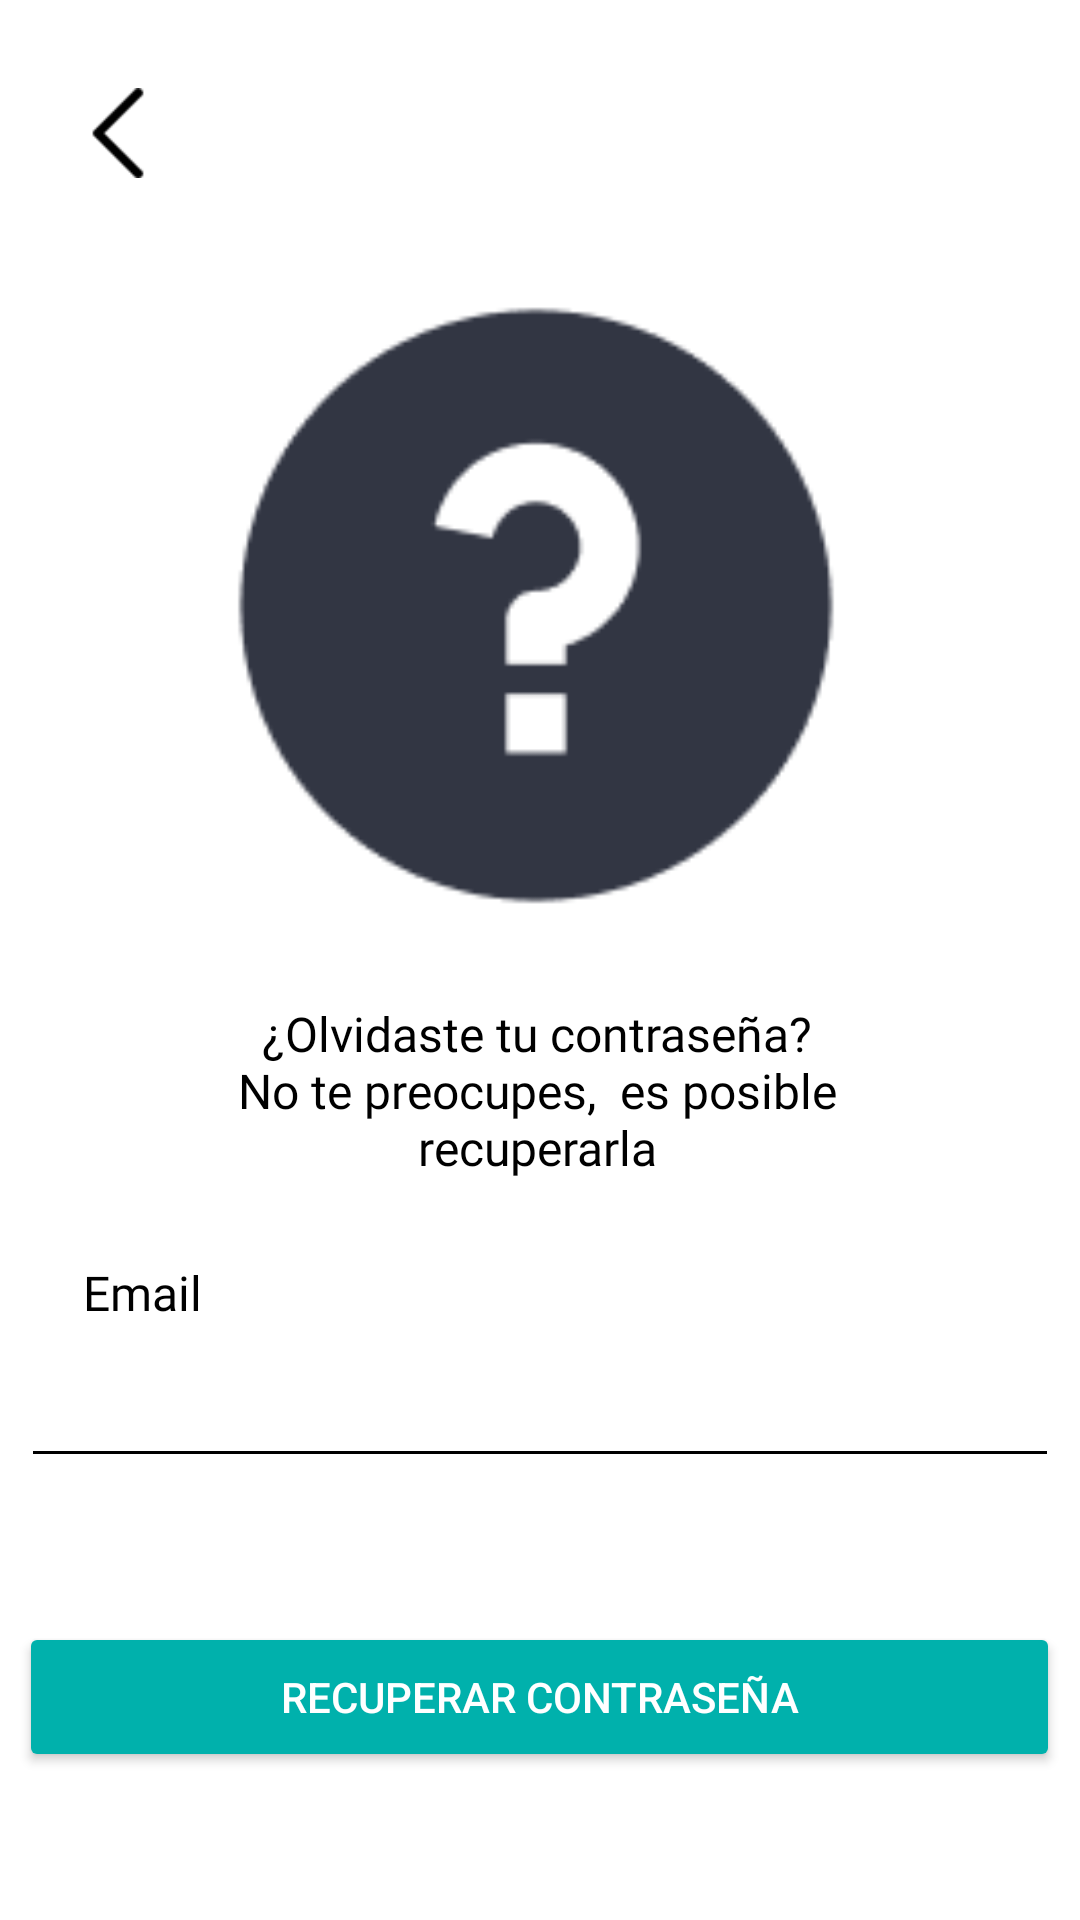

Where icons sit on this 1080x1920 app screen, as detection(x1, y1, x2, y2):
arrow: detection(92, 88, 144, 178)
